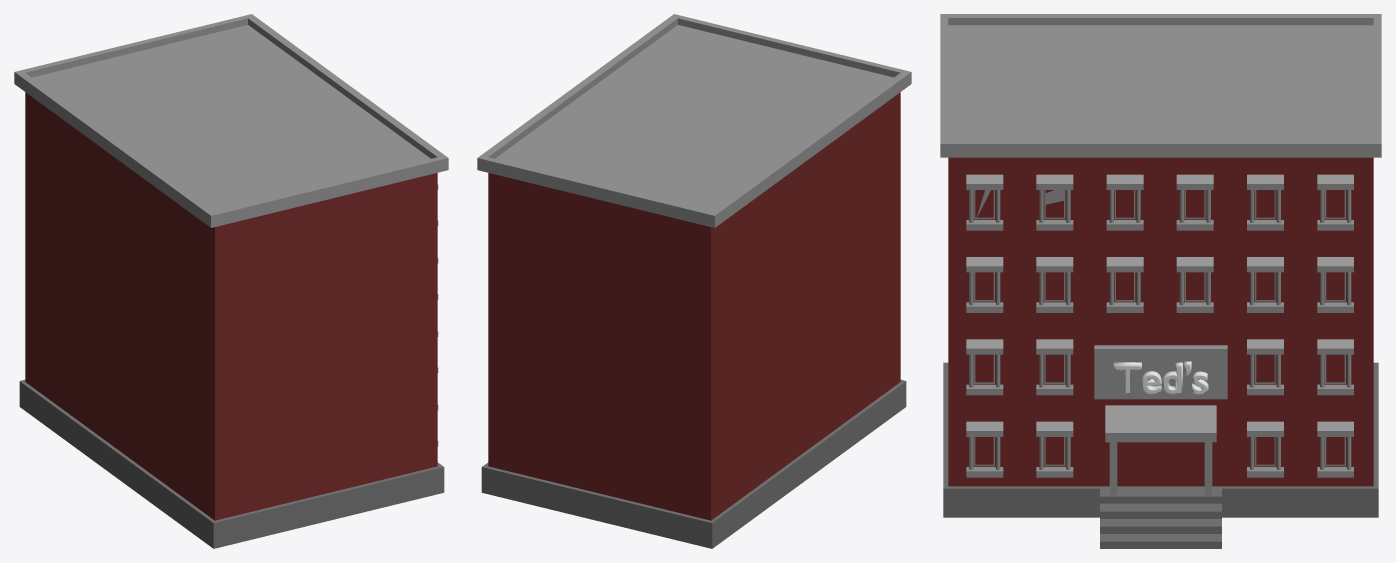
The model's file is Block 3 Apartment WIP.fbx.
3 views of the same model, side by side, from view 1: azimuth 30°, elevation 25°; view 2: azimuth 150°, elevation 25°; view 3: azimuth 270°, elevation 25° (orthographic). The views are drawn at different scales.
Parts seen in each view (by area): view 1: Cube; view 2: Cube; view 3: Cube, Cube.001, Text.
Part boxes in pixels (bbox=[...]): Cube: bbox=[14, 14, 448, 548]; Cube: bbox=[477, 14, 911, 548]; Cube: bbox=[940, 14, 1381, 548]; Cube.001: bbox=[966, 174, 1353, 477]; Text: bbox=[1113, 361, 1208, 394].
Size of the model in its own units: 701 by 771 by 820.
